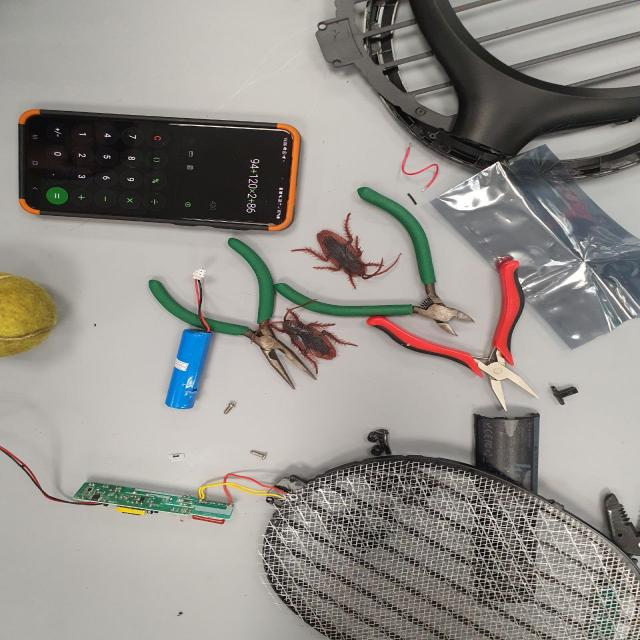Cockroach: (278, 209, 404, 295), (250, 294, 356, 380)
